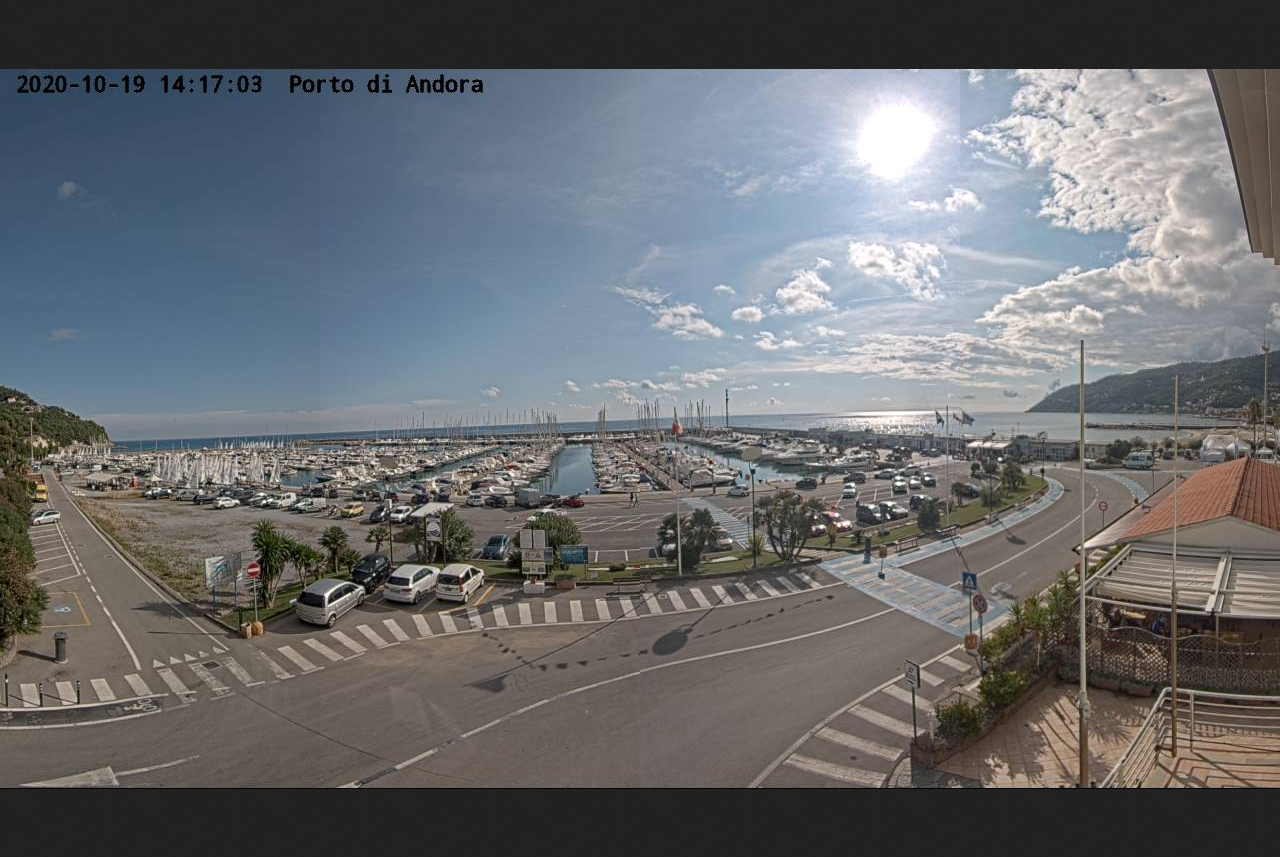maybe: (930, 408, 950, 430), (961, 407, 979, 430)
no: (669, 402, 687, 437)
